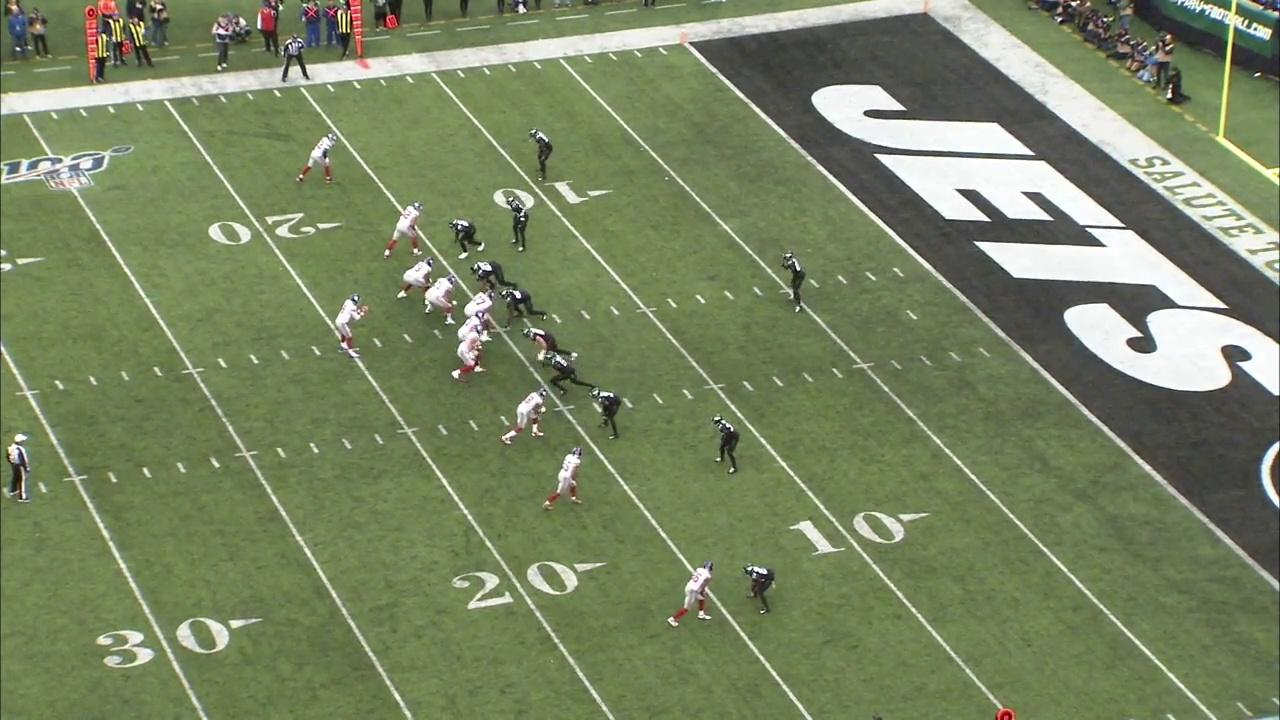player: (668, 559, 714, 628), (501, 383, 549, 447), (542, 445, 587, 512), (296, 130, 344, 187), (335, 291, 372, 358), (385, 201, 425, 260), (523, 326, 582, 364), (543, 350, 592, 393), (742, 560, 777, 619), (711, 411, 740, 480), (505, 190, 533, 257), (589, 386, 623, 440), (397, 256, 436, 300), (500, 289, 549, 324), (451, 328, 485, 378), (447, 218, 486, 259), (528, 125, 554, 185), (426, 273, 456, 325), (781, 253, 804, 312), (472, 262, 520, 289), (457, 308, 487, 347), (465, 290, 498, 316)
ref: (0, 432, 34, 507), (278, 32, 314, 85)
